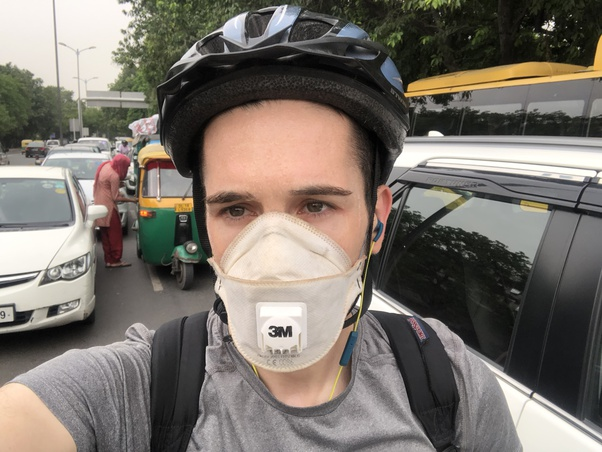n95: (206, 214, 365, 370)
